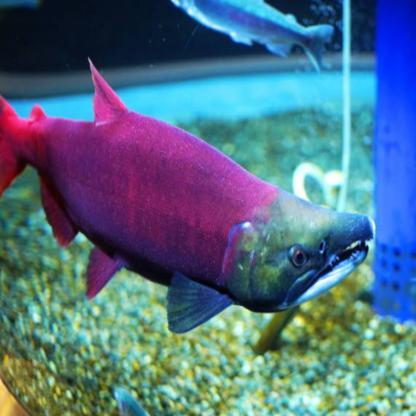sockeye: (0, 89, 369, 336)
